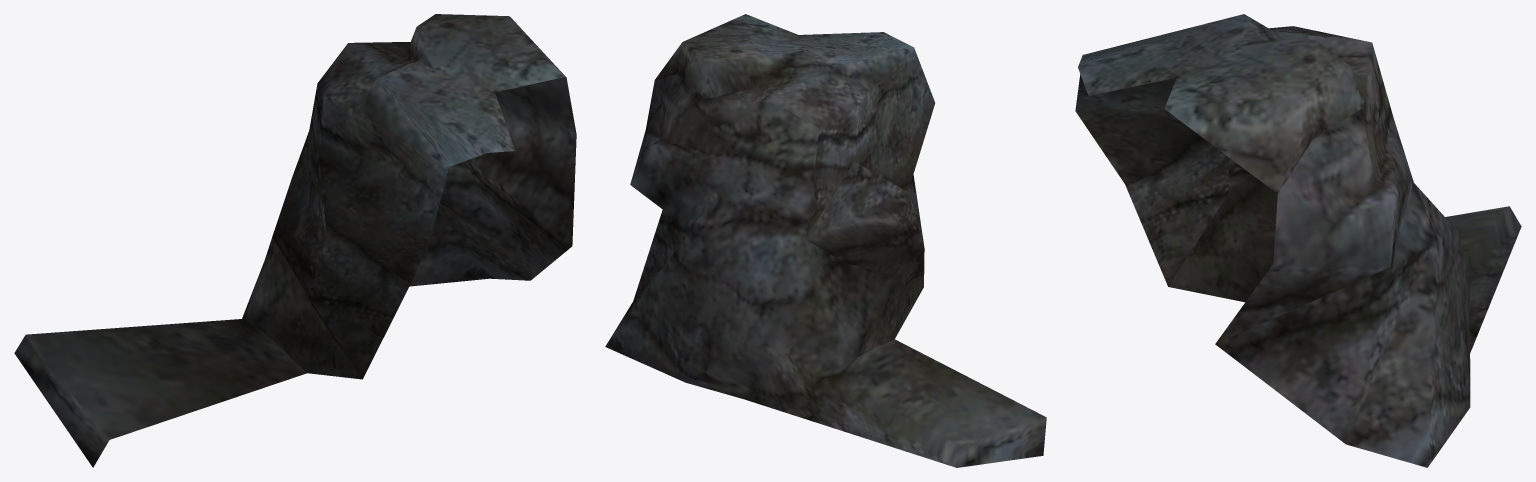
The model's file is S_Rock_Yellow034_H44.FBX.
3 renders of one model, left to right at view 1: azimuth 30°, elevation 25°; view 2: azimuth 150°, elevation 25°; view 3: azimuth 270°, elevation 25°, orthographic. The views are drawn at different scales.
Visible parts, largest first — view 1: S_Rock_Yellow034_H44; view 2: S_Rock_Yellow034_H44; view 3: S_Rock_Yellow034_H44.
Boxes of the visible parts, x1=… form: S_Rock_Yellow034_H44: x1=14, y1=14, x2=576, y2=467; S_Rock_Yellow034_H44: x1=605, y1=14, x2=1046, y2=467; S_Rock_Yellow034_H44: x1=1075, y1=14, x2=1521, y2=467.
Size of the model in its own units: 856 by 632 by 646.
1 material, 1 textured.
